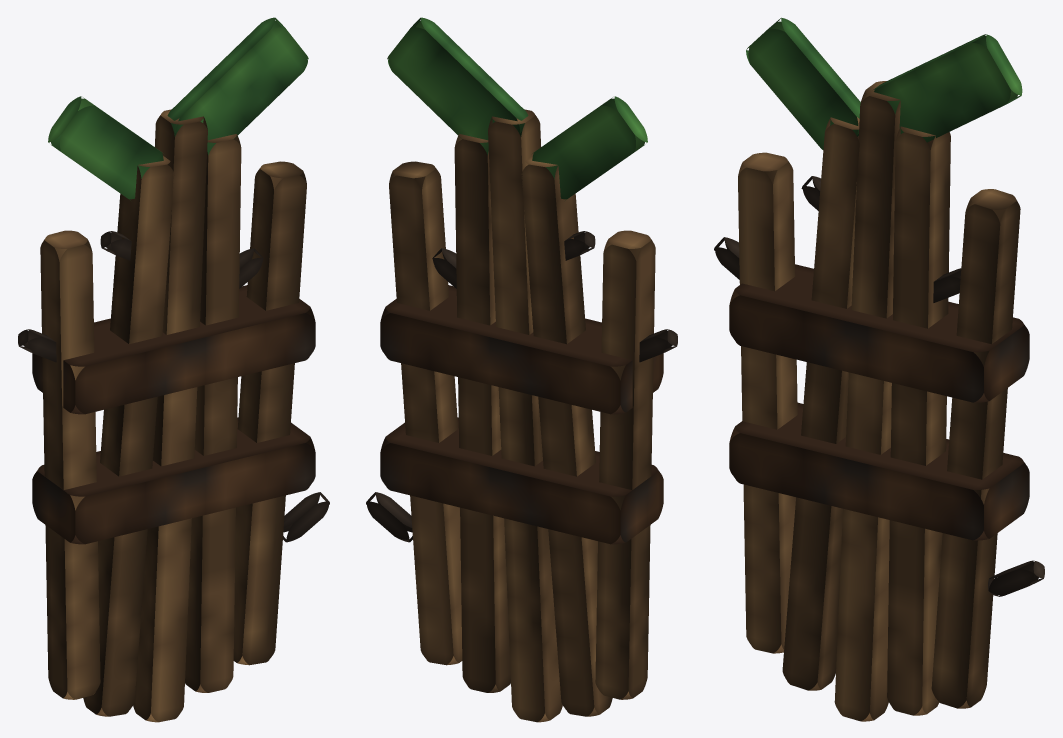
File: bundle_of_briar_twigs.obj
3 views of the same model, side by side, from view 1: azimuth 30°, elevation 25°; view 2: azimuth 150°, elevation 25°; view 3: azimuth 330°, elevation 25° (orthographic). The views are drawn at different scales.
Parts seen in each view (by area): view 1: lit; view 2: lit; view 3: lit.
Part boxes in pixels (x1,y1,x2,y2): lit: (18, 17, 329, 722); lit: (366, 17, 677, 722); lit: (714, 17, 1044, 721).
Bounding box in the file's own units: 0.4682 × 0.9639 × 0.1125.
